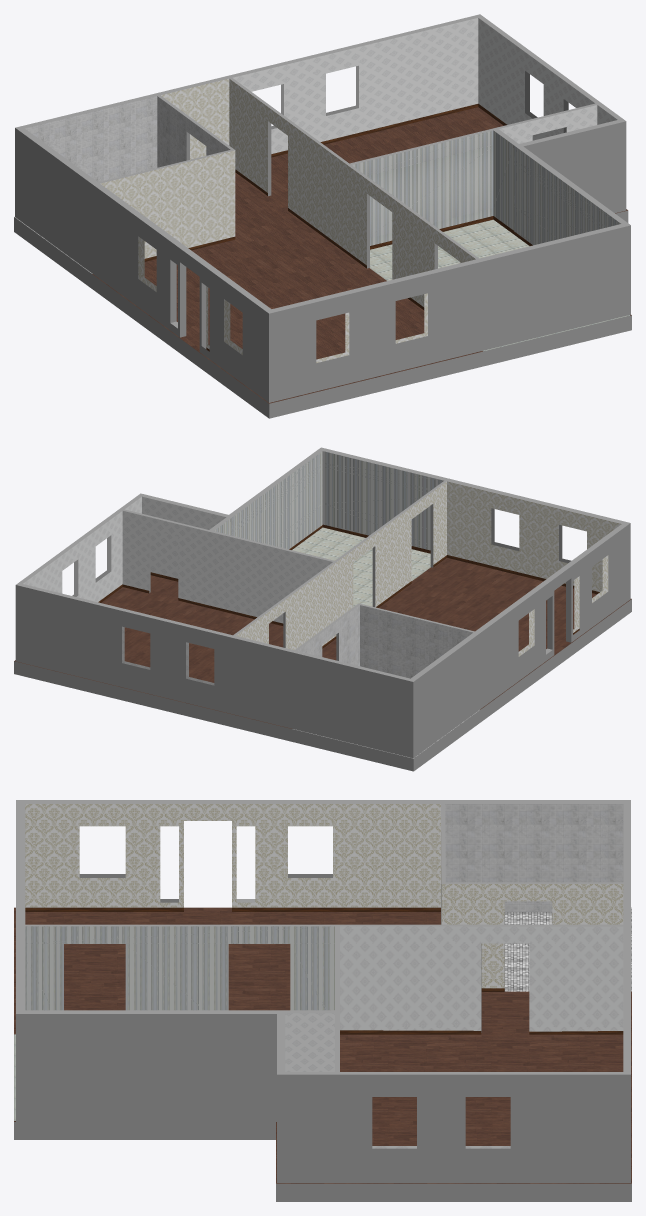
File: NEW House.fbx
3 renders of one model, top to bottom at view 1: azimuth 30°, elevation 25°; view 2: azimuth 150°, elevation 25°; view 3: azimuth 270°, elevation 25°, orthographic. The views are drawn at different scales.
Visible parts, largest first — view 1: polySurface36, pPlane3, polySurface60, polySurface39, polySurface9, polySurface8, polySurface33; view 2: polySurface36, pPlane3, polySurface39, polySurface60, polySurface9, polySurface8; view 3: polySurface36, polySurface60, pPlane3, polySurface8, polySurface33, polySurface39.
Part boxes in pixels (<box>): polySurface36: <box>15,14,630,402</box>; pPlane3: <box>14,107,631,418</box>; polySurface60: <box>228,77,481,310</box>; polySurface39: <box>348,102,601,249</box>; polySurface9: <box>98,150,235,261</box>; polySurface8: <box>157,94,234,167</box>; polySurface33: <box>492,127,518,234</box>; polySurface36: <box>15,447,630,758</box>; pPlane3: <box>14,527,631,771</box>; polySurface39: <box>119,508,335,625</box>; polySurface60: <box>232,478,448,650</box>; polySurface9: <box>359,603,474,678</box>; polySurface8: <box>294,603,359,665</box>; polySurface36: <box>16,800,630,1182</box>; polySurface60: <box>25,924,625,1034</box>; pPlane3: <box>14,907,631,1201</box>; polySurface8: <box>442,882,625,991</box>; polySurface33: <box>285,1010,339,1071</box>; polySurface39: <box>335,926,339,1074</box>.
Bounding box in the file's own units: 16.3 × 3.48 × 15.42.
Materials: 10 (9 with a texture image).
